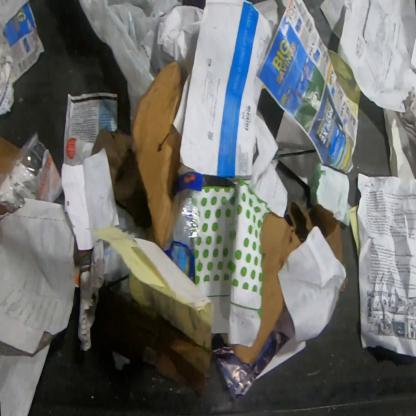cardboard: (221, 199, 344, 365), (90, 285, 212, 395), (132, 60, 182, 251), (90, 127, 151, 229), (0, 134, 21, 175)
rigid_plastic: (0, 129, 64, 213)
soft_plastic: (70, 0, 184, 137), (164, 165, 204, 283)
